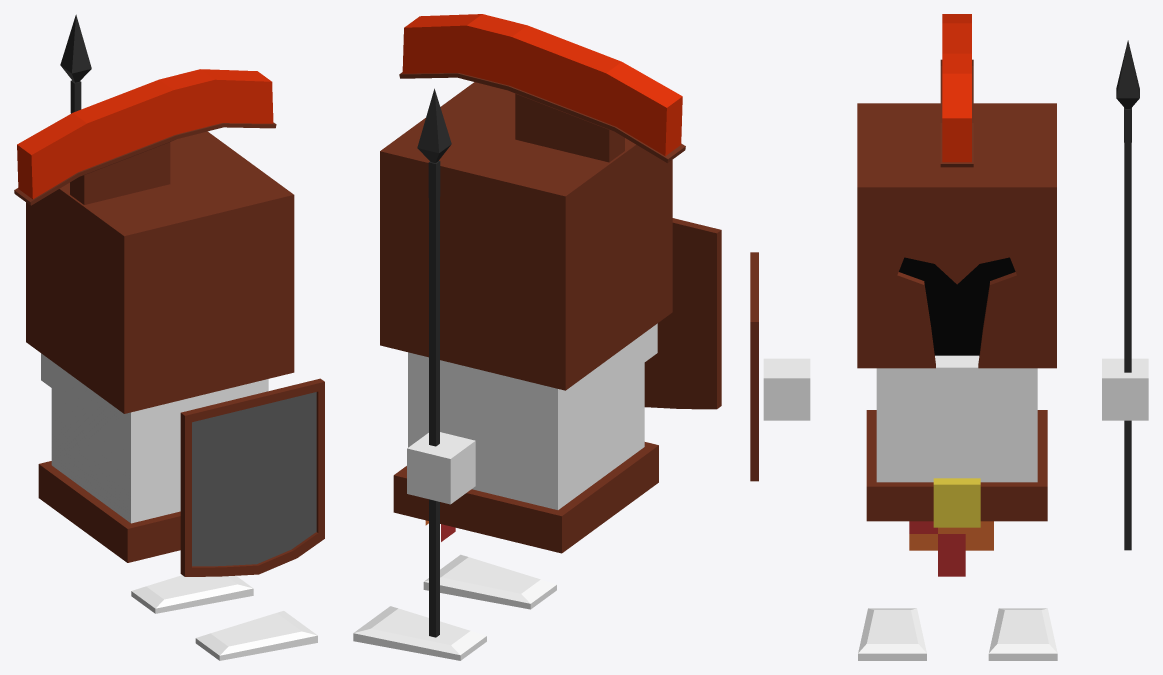
File: Warrior.fbx
3 views of the same model, side by side, from view 1: azimuth 30°, elevation 25°; view 2: azimuth 150°, elevation 25°; view 3: azimuth 270°, elevation 25° (orthographic). The views are drawn at different scales.
Parts seen in each view (by area): view 1: Cube.001, Plane.002, Cube.003, Cube.002, Cube.005, Cube.006, Cube.009; view 2: Cube.001, Cube.003, Cube.002, Plane.002, Cube.009, Cube.008, Cube.006, Cube.005; view 3: Cube.001, Cube.003, Cube, Cube.002, Cube.009, Cube.006, Cube.005, Cube.007, Plane.001, Cube.008, Cube.004, Plane.002.
Boxes of the visible parts, x1=… form: Cube.001: x1=26, y1=131, x2=294, y2=413; Plane.002: x1=180, y1=378, x2=324, y2=576; Cube.003: x1=38, y1=361, x2=268, y2=562; Cube.002: x1=14, y1=69, x2=276, y2=205; Cube.005: x1=195, y1=611, x2=317, y2=660; Cube.006: x1=131, y1=575, x2=253, y2=613; Cube.009: x1=60, y1=14, x2=91, y2=113; Cube.001: x1=380, y1=82, x2=672, y2=390; Cube.003: x1=393, y1=333, x2=658, y2=553; Cube.002: x1=399, y1=14, x2=685, y2=162; Plane.002: x1=644, y1=218, x2=721, y2=409; Cube.009: x1=417, y1=88, x2=451, y2=637; Cube.008: x1=407, y1=432, x2=475, y2=504; Cube.006: x1=353, y1=606, x2=486, y2=660; Cube.005: x1=423, y1=554, x2=556, y2=609; Cube.001: x1=857, y1=103, x2=1056, y2=368; Cube.003: x1=866, y1=355, x2=1047, y2=521; Cube: x1=899, y1=257, x2=1015, y2=355; Cube.002: x1=940, y1=14, x2=973, y2=167; Cube.009: x1=1116, y1=40, x2=1139, y2=550; Cube.006: x1=988, y1=608, x2=1057, y2=660; Cube.005: x1=858, y1=608, x2=926, y2=660; Cube.007: x1=763, y1=358, x2=810, y2=420; Plane.001: x1=909, y1=521, x2=993, y2=576; Cube.008: x1=1102, y1=358, x2=1148, y2=420; Cube.004: x1=933, y1=478, x2=980, y2=527; Plane.002: x1=750, y1=252, x2=758, y2=481.
Size of the model in its own units: 321 by 693 by 441.
